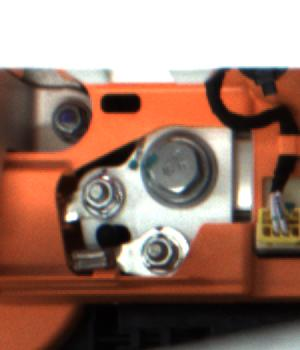nut_b: (138, 126, 231, 212)
